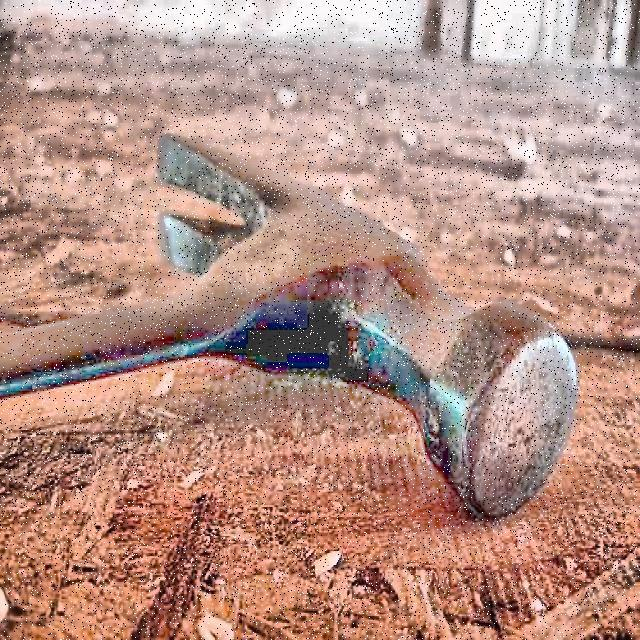hammer: (0, 126, 580, 527)
